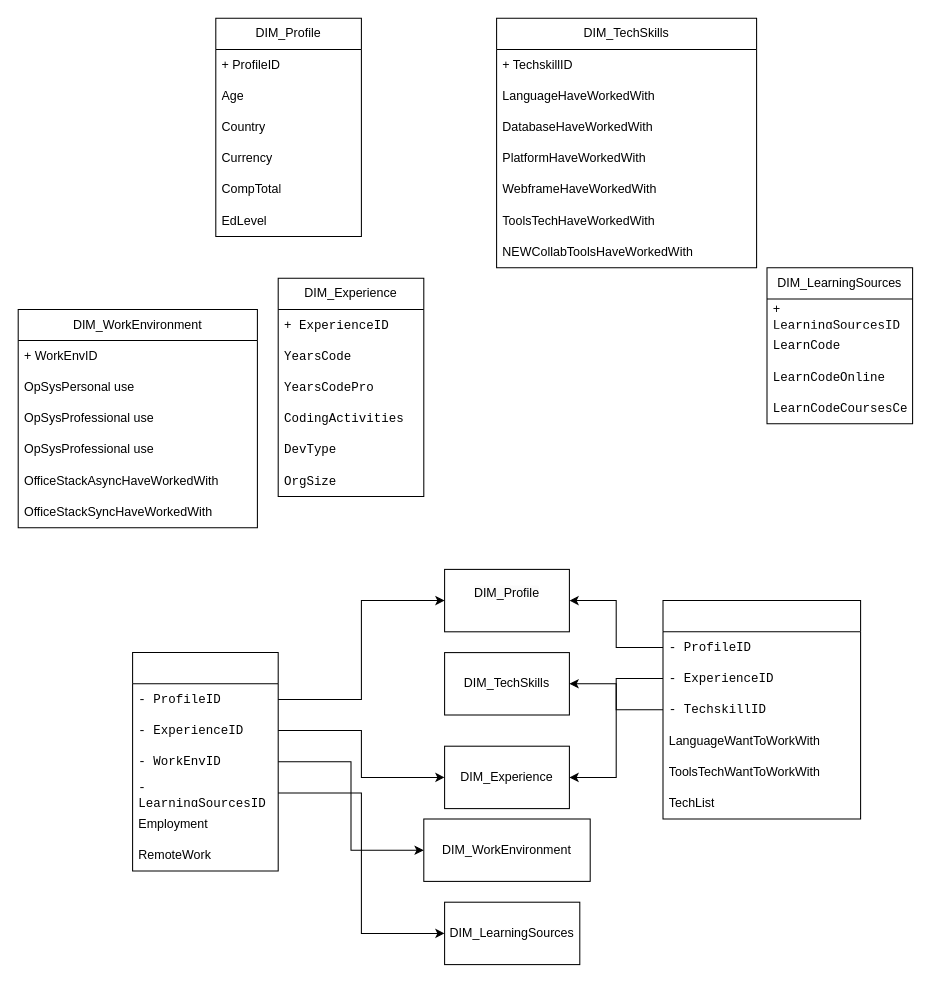
This 940x983 diagram has some shape labels left out. Here are the shapes that lost their labels. From the top down, the box of each, then its label:
(662, 600, 861, 819): Fact_TechStack
(132, 652, 278, 871): Fact_CandidateProfile
